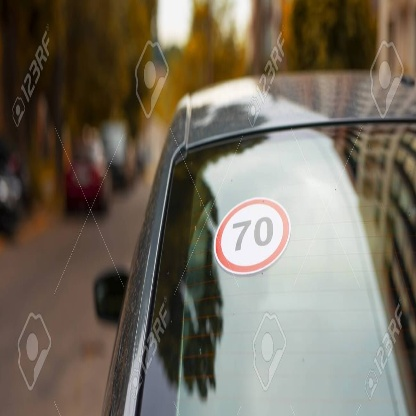limit2: (214, 193, 294, 277)
